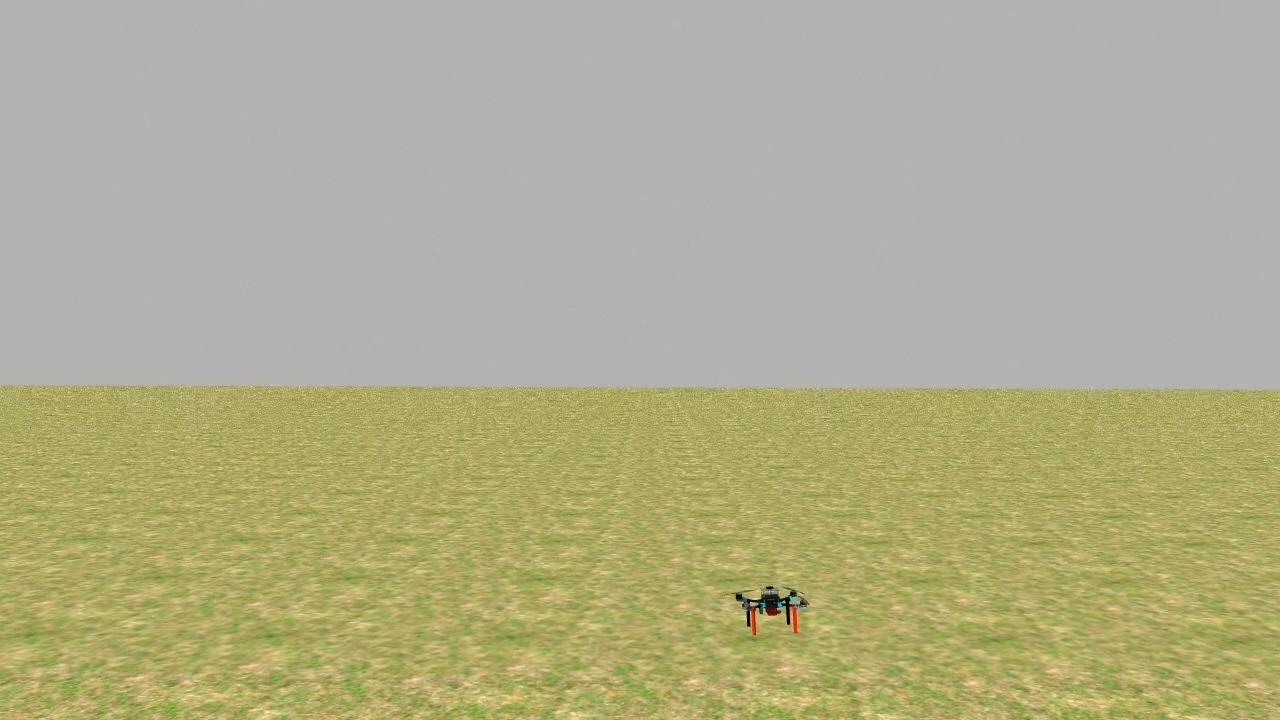UAV: (714, 570, 830, 646)
